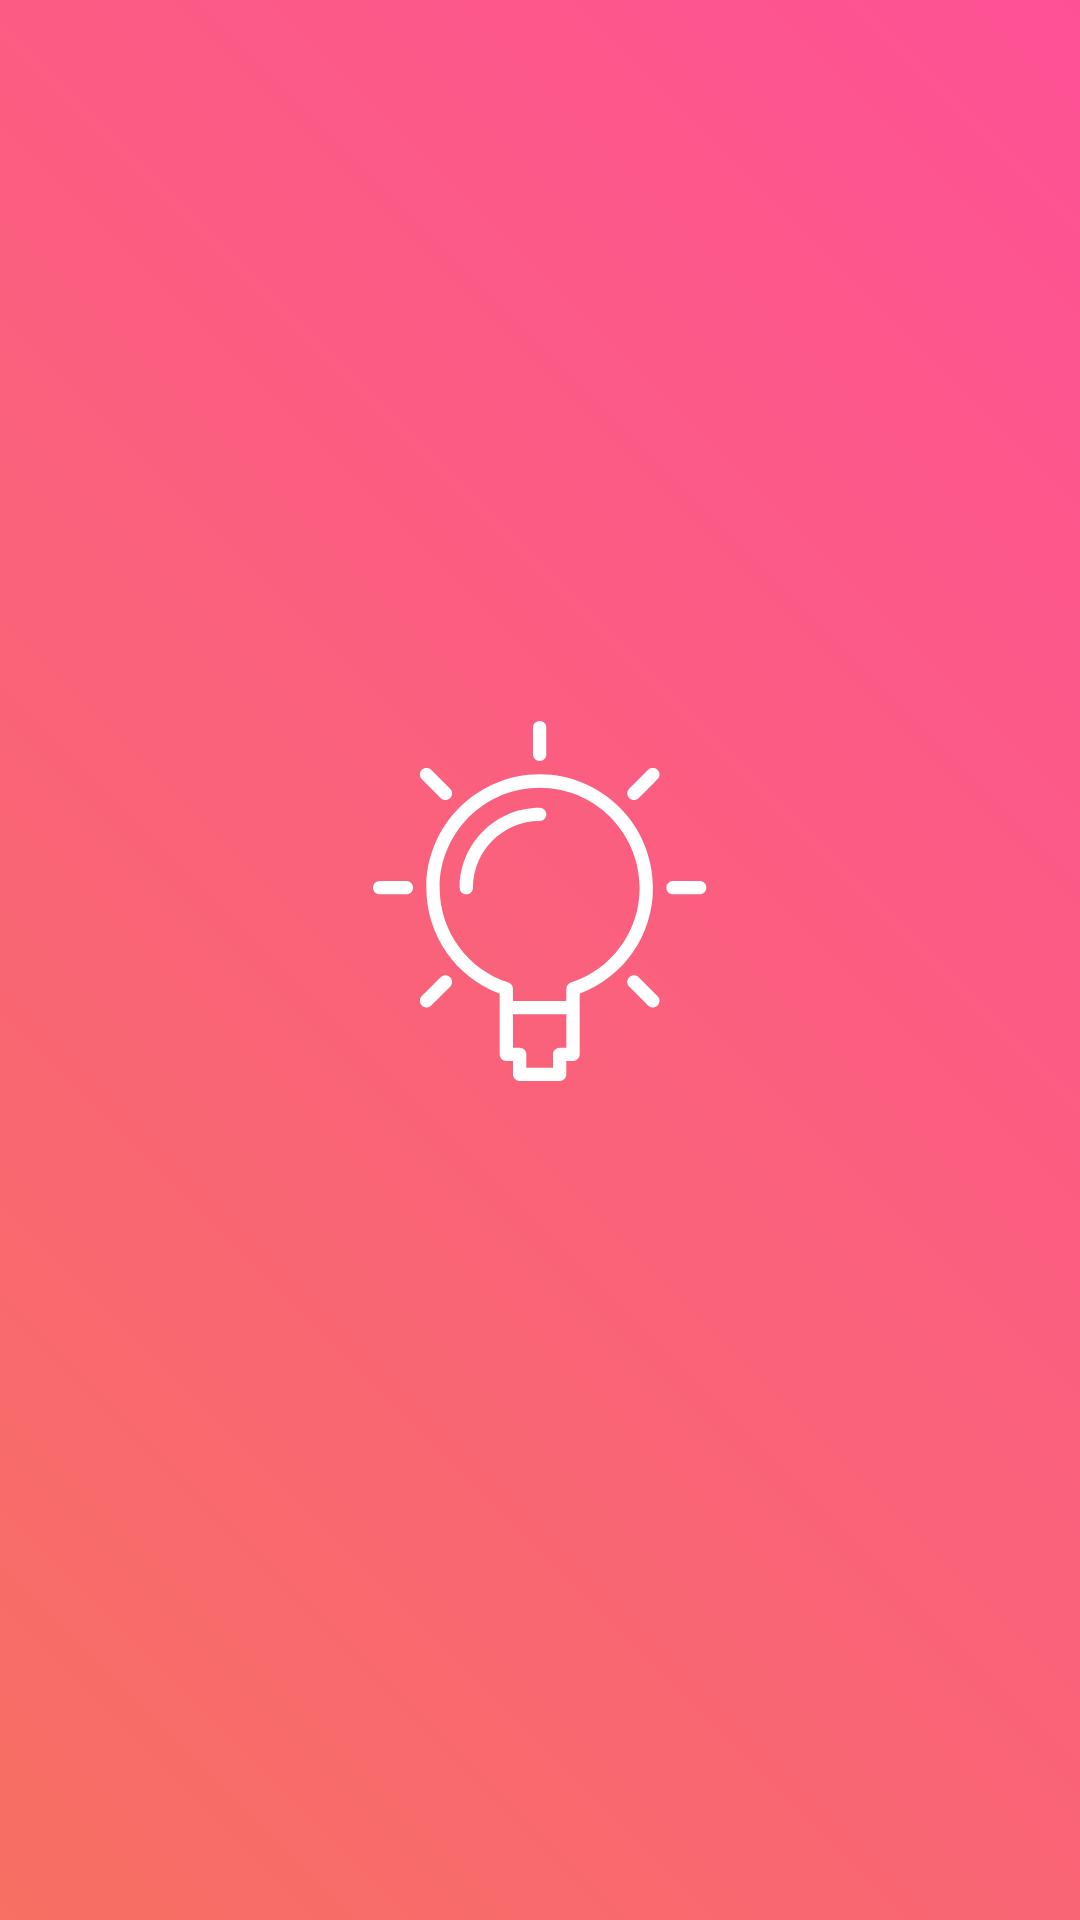

Icon bounding boxes for this 1080*1920 phone screenshot, format (x1, y1, x2, y2):
idea: (373, 721, 707, 1081)
